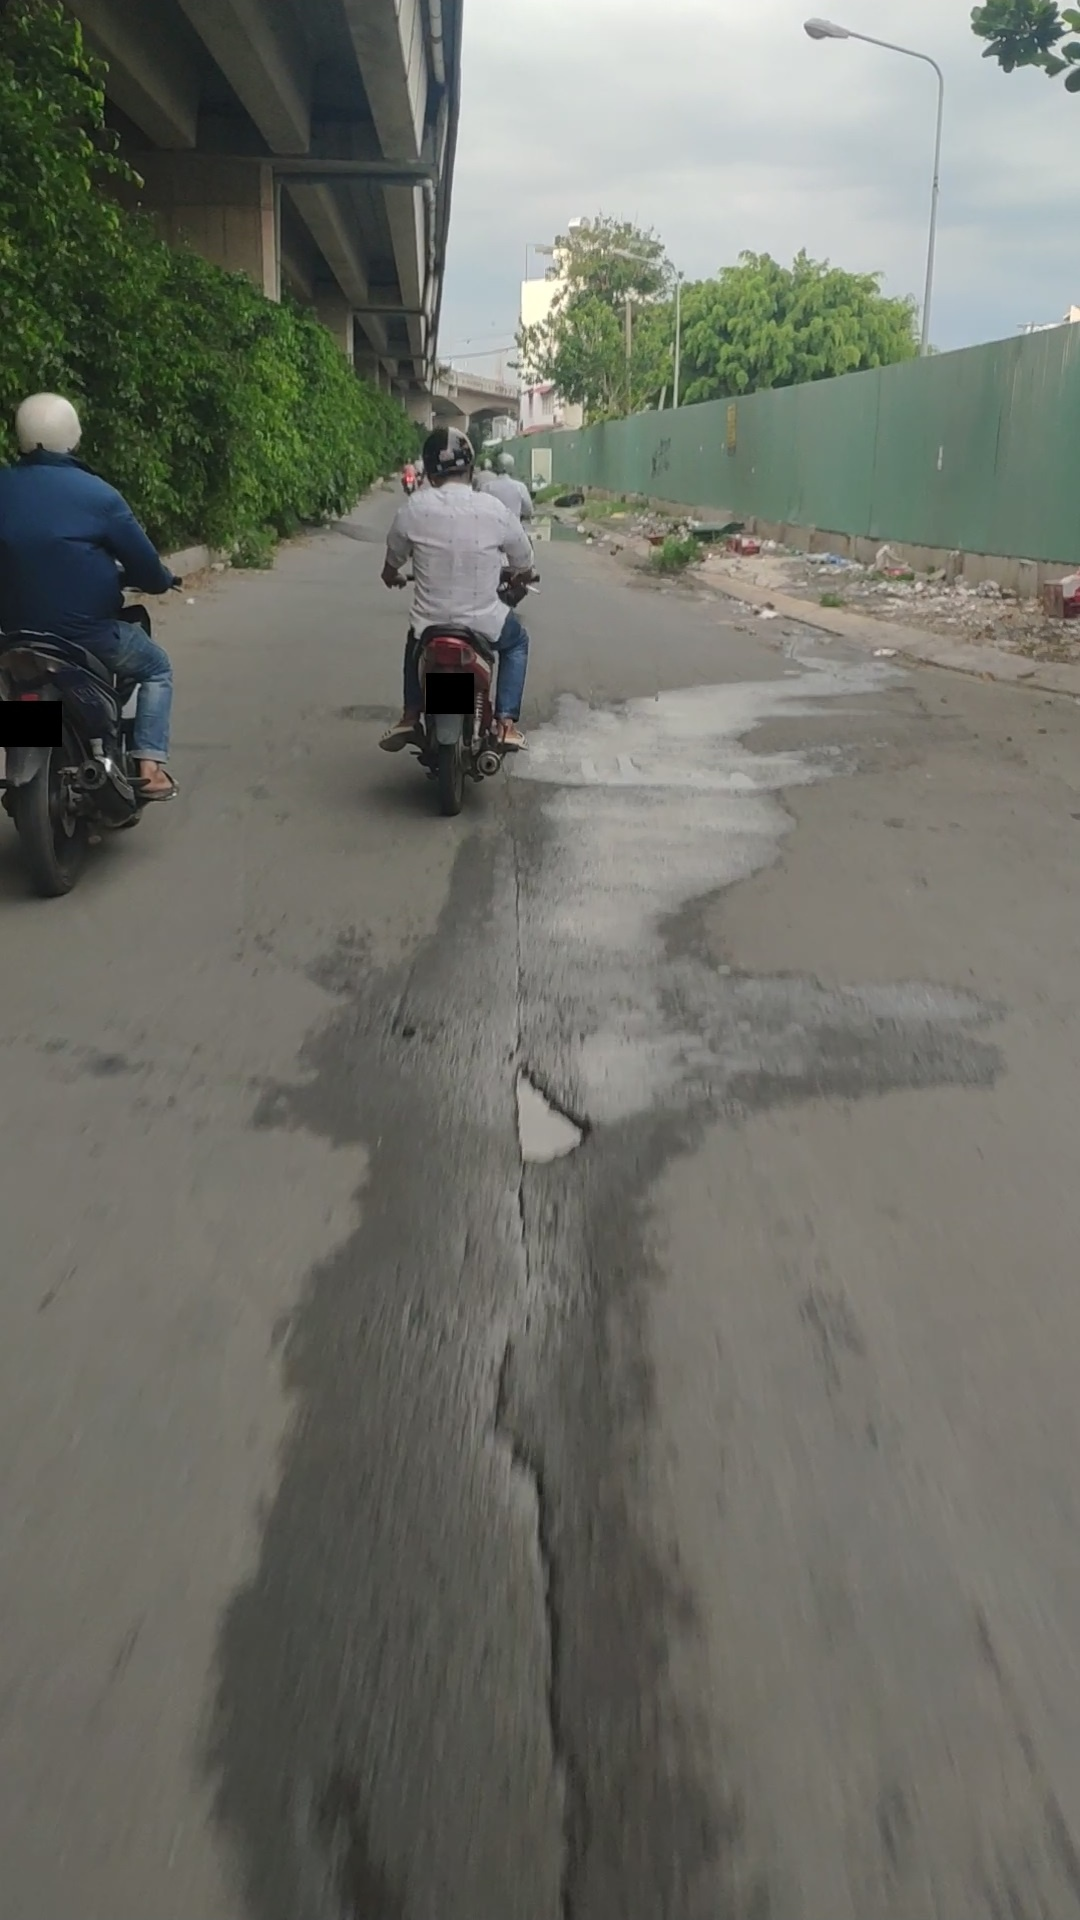hole: (497, 1054, 617, 1171), (613, 749, 651, 789), (575, 753, 607, 789), (725, 767, 764, 791)
